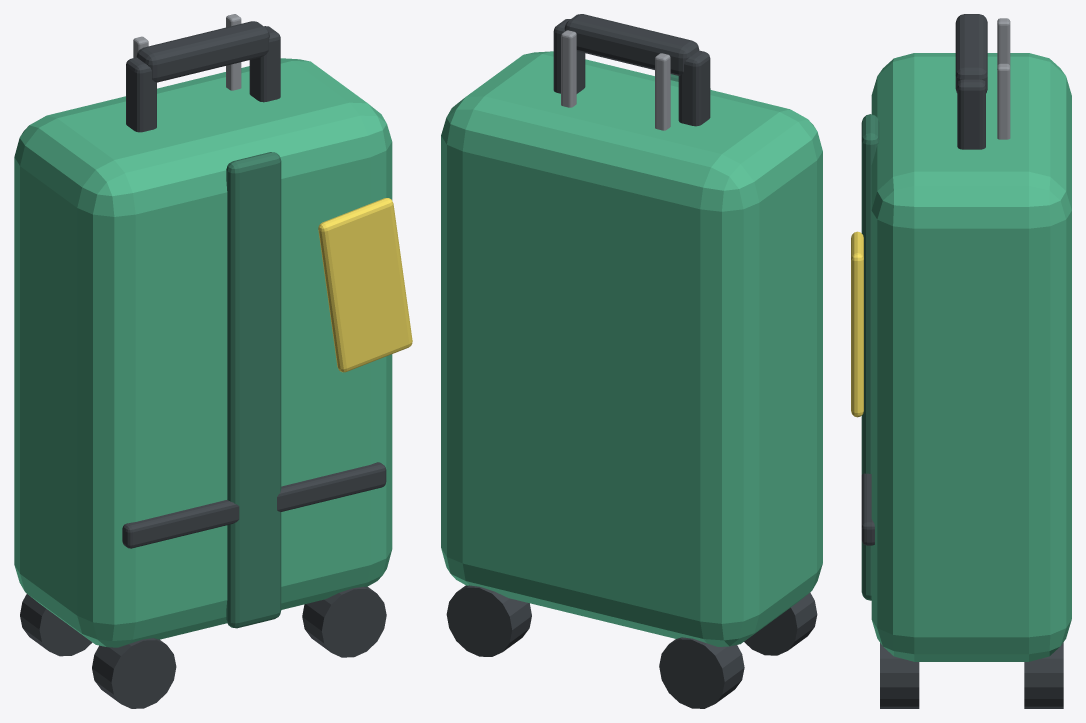
Rendered from npc-green.glb.
3 views of the same model, side by side, from view 1: azimuth 30°, elevation 25°; view 2: azimuth 150°, elevation 25°; view 3: azimuth 270°, elevation 25° (orthographic).
Parts seen in each view (by area): view 1: Shell, Strap, Tag, LowerBand, HandleTop, Wheel, Wheel.002, Wheel.001, HandlePost, HandlePost.001; view 2: Shell, Wheel.001, Wheel.003, HandleTop, Wheel, HandlePost, Rail.001, Rail, HandlePost.001; view 3: Shell, Strap, Tag, HandleTop, Wheel.003, Wheel.002, HandlePost.001, Rail.001, LowerBand, Rail.
Boxes of the visible parts, x1,y1,x2,y2 form: Shell: (14,58,392,647); Strap: (226,152,281,628); Tag: (318,198,412,372); LowerBand: (122,462,386,548); HandleTop: (136,21,269,82); Wheel: (92,638,176,708); Wheel.002: (302,586,386,657); Wheel.001: (20,594,92,656); HandlePost: (126,57,156,132); HandlePost.001: (249,26,280,102); Shell: (441,51,822,646); Wheel.001: (659,637,744,708); Wheel.003: (446,585,531,656); HandleTop: (564,14,699,75); Wheel: (744,592,817,655); HandlePost: (678,50,710,126); Rail.001: (561,30,576,107); Rail: (655,53,670,130); HandlePost.001: (553,19,585,93); Shell: (871,53,1071,661); Strap: (861,114,879,600); Tag: (851,231,863,417); HandleTop: (955,14,987,93); Wheel.003: (1024,642,1063,708); Wheel.002: (880,643,919,708); HandlePost.001: (957,79,985,149); Rail.001: (997,63,1010,139); LowerBand: (861,473,874,545); Rail: (997,18,1010,65).
Size of the model in its own units: 1 by 1.89 by 0.6172.
